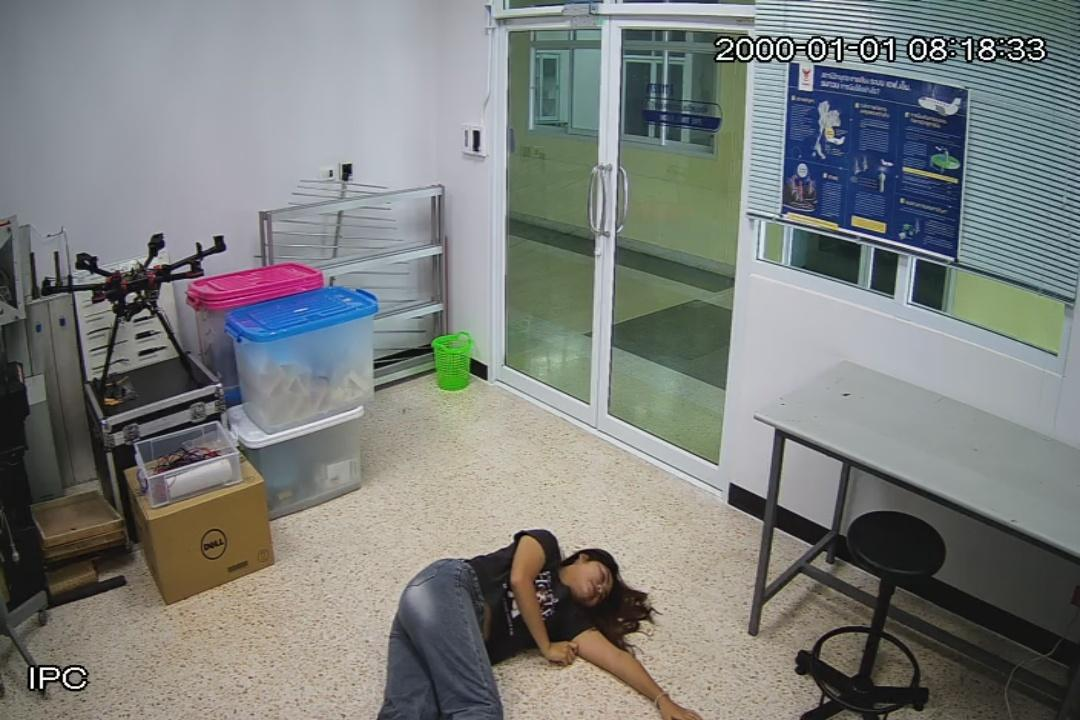fall: (380, 528, 689, 720)
